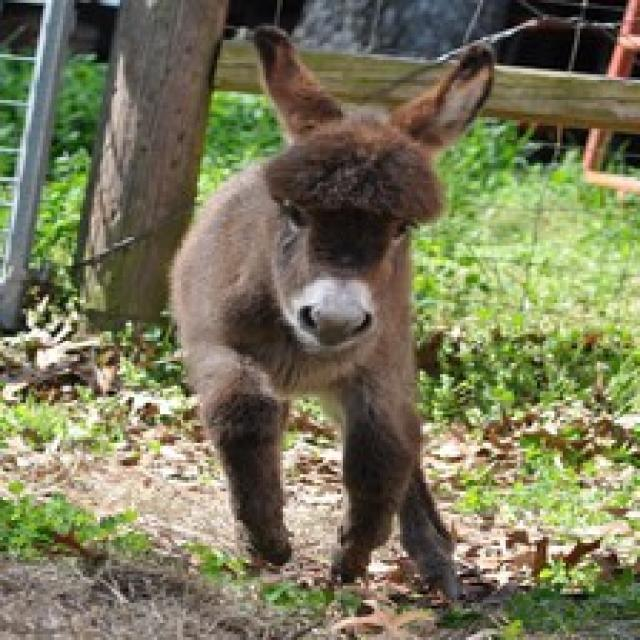Donkey: (132, 18, 508, 627)
